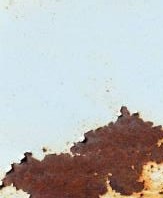Corrosion: (1, 105, 163, 198)
